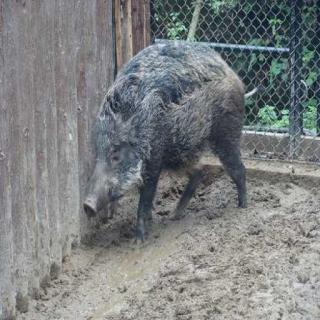Pig: (80, 23, 254, 237)
